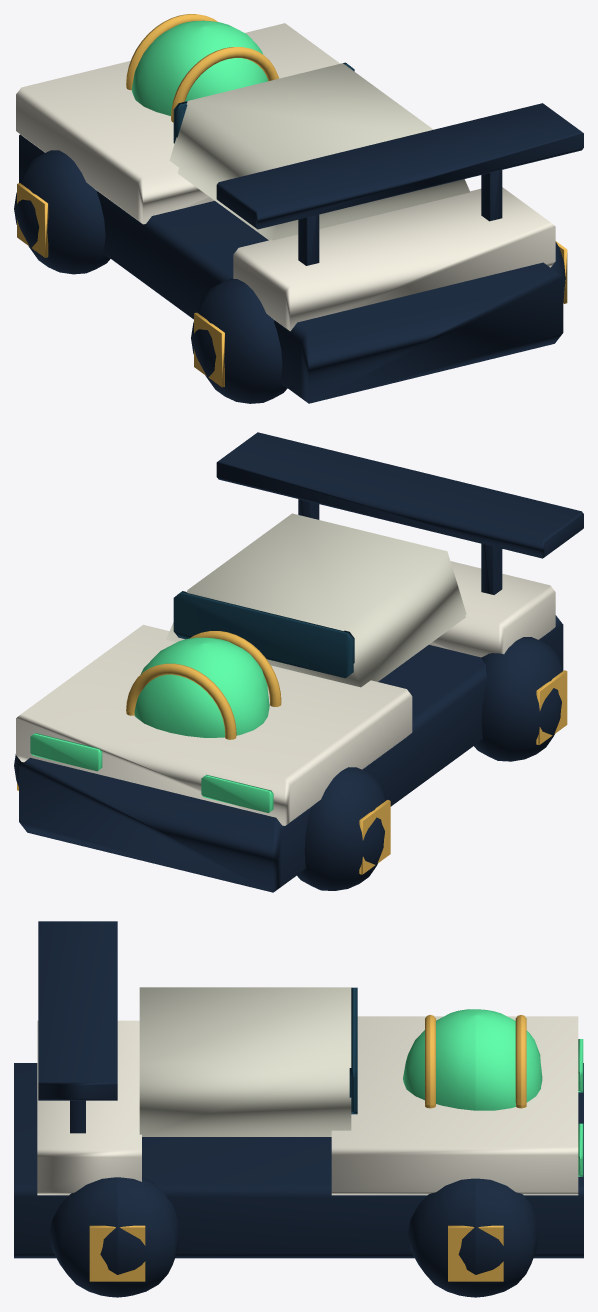
File: hero_white-supra.glb
3 views of the same model, one above another, from view 1: azimuth 30°, elevation 25°; view 2: azimuth 150°, elevation 25°; view 3: azimuth 270°, elevation 25° (orthographic).
Parts seen in each view (by area): view 1: Chassis, RearDeck, Cabin, RearWing, WhiteBonnet, Wheel (×2), GlassCore, GiltOrbRim (×2), AlloyHub (×2), WingPylon (×2); view 2: Chassis, WhiteBonnet, Cabin, RearWing, Wheel (×2), GlassCore, Windshield, RearDeck, Headlamp (×2), GiltOrbRim (×2), AlloyHub (×2), WingPylon; view 3: Chassis, Cabin, WhiteBonnet, Wheel (×2), RearWing, RearDeck, GlassCore, AlloyHub (×2), GiltOrbRim (×2), Windshield, WingPylon.
Part boxes in pixels (<box>): Chassis: <box>19,134,563,403</box>; RearDeck: <box>233,187,555,331</box>; Cabin: <box>169,63,469,240</box>; RearWing: <box>216,103,583,229</box>; WhiteBonnet: <box>16,23,339,224</box>; Wheel (×2): <box>14,150,287,403</box>; GlassCore: <box>131,20,267,115</box>; GiltOrbRim (×2): <box>126,14,278,122</box>; AlloyHub (×2): <box>17,183,224,387</box>; WingPylon (×2): <box>298,170,502,265</box>; Chassis: <box>19,615,563,892</box>; WhiteBonnet: <box>16,624,412,825</box>; Cabin: <box>166,513,466,687</box>; RearWing: <box>216,432,583,558</box>; Wheel (×2): <box>297,637,563,890</box>; GlassCore: <box>134,637,269,737</box>; Windshield: <box>173,591,354,678</box>; RearDeck: <box>429,561,555,657</box>; Headlamp (×2): <box>30,733,273,812</box>; GiltOrbRim (×2): <box>126,631,281,739</box>; AlloyHub (×2): <box>359,670,567,874</box>; WingPylon: <box>481,543,502,594</box>; Chassis: <box>14,1063,583,1258</box>; Cabin: <box>139,987,351,1136</box>; WhiteBonnet: <box>331,1016,578,1195</box>; Wheel (×2): <box>49,1177,537,1297</box>; RearWing: <box>38,921,117,1100</box>; RearDeck: <box>37,1020,141,1195</box>; GlassCore: <box>403,1009,542,1110</box>; AlloyHub (×2): <box>89,1225,503,1281</box>; GiltOrbRim (×2): <box>425,1014,526,1108</box>; Windshield: <box>349,987,357,1114</box>; WingPylon: <box>70,1100,85,1133</box>.
Size of the model in its own units: 2.73 by 1.65 by 3.76.
